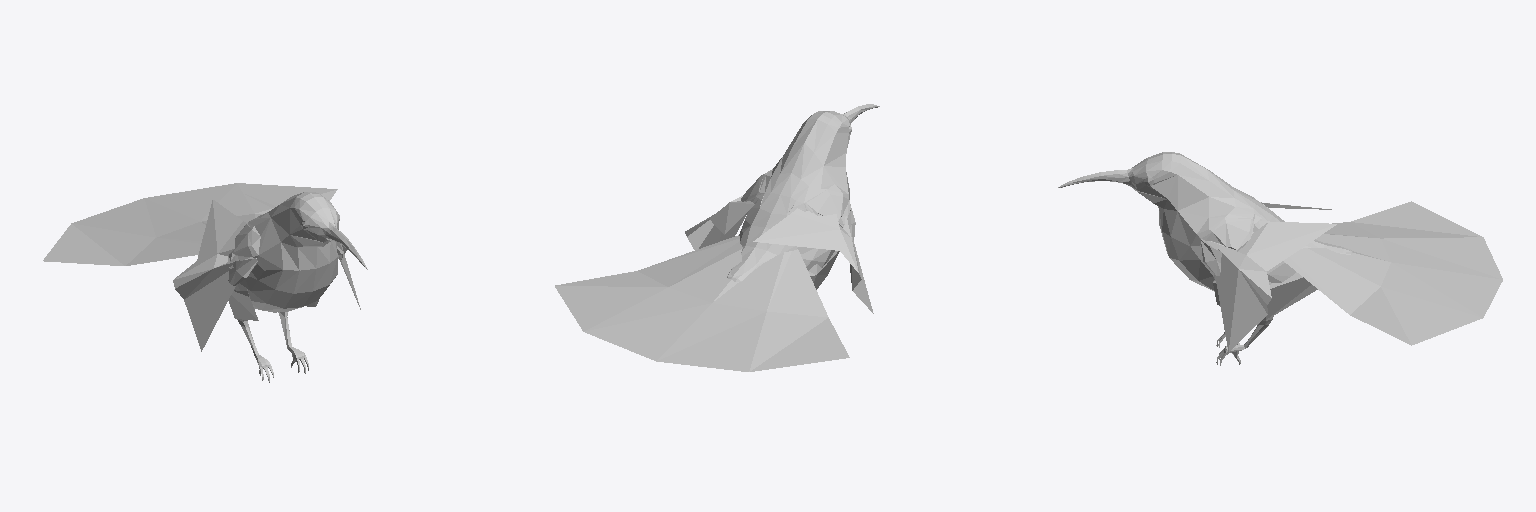
Rendered from MODEL_birdPosed_1.obj.
The picture shows the model from 3 angles: view 1: azimuth 30°, elevation 25°; view 2: azimuth 150°, elevation 25°; view 3: azimuth 270°, elevation 25°; orthographic projection.
Parts seen in each view (by area): view 1: GEO_feathers1, GEO_bird_low1; view 2: GEO_feathers1, GEO_bird_low1; view 3: GEO_feathers1, GEO_bird_low1.
Boxes of the visible parts, <box> form: GEO_feathers1: <box>43,183,360,351</box>; GEO_bird_low1: <box>227,192,367,382</box>; GEO_feathers1: <box>555,196,873,371</box>; GEO_bird_low1: <box>727,104,879,281</box>; GEO_feathers1: <box>1213,201,1502,352</box>; GEO_bird_low1: <box>1058,152,1352,365</box>.
Bounding box in the file's own units: 3.36 × 2.21 × 4.39.